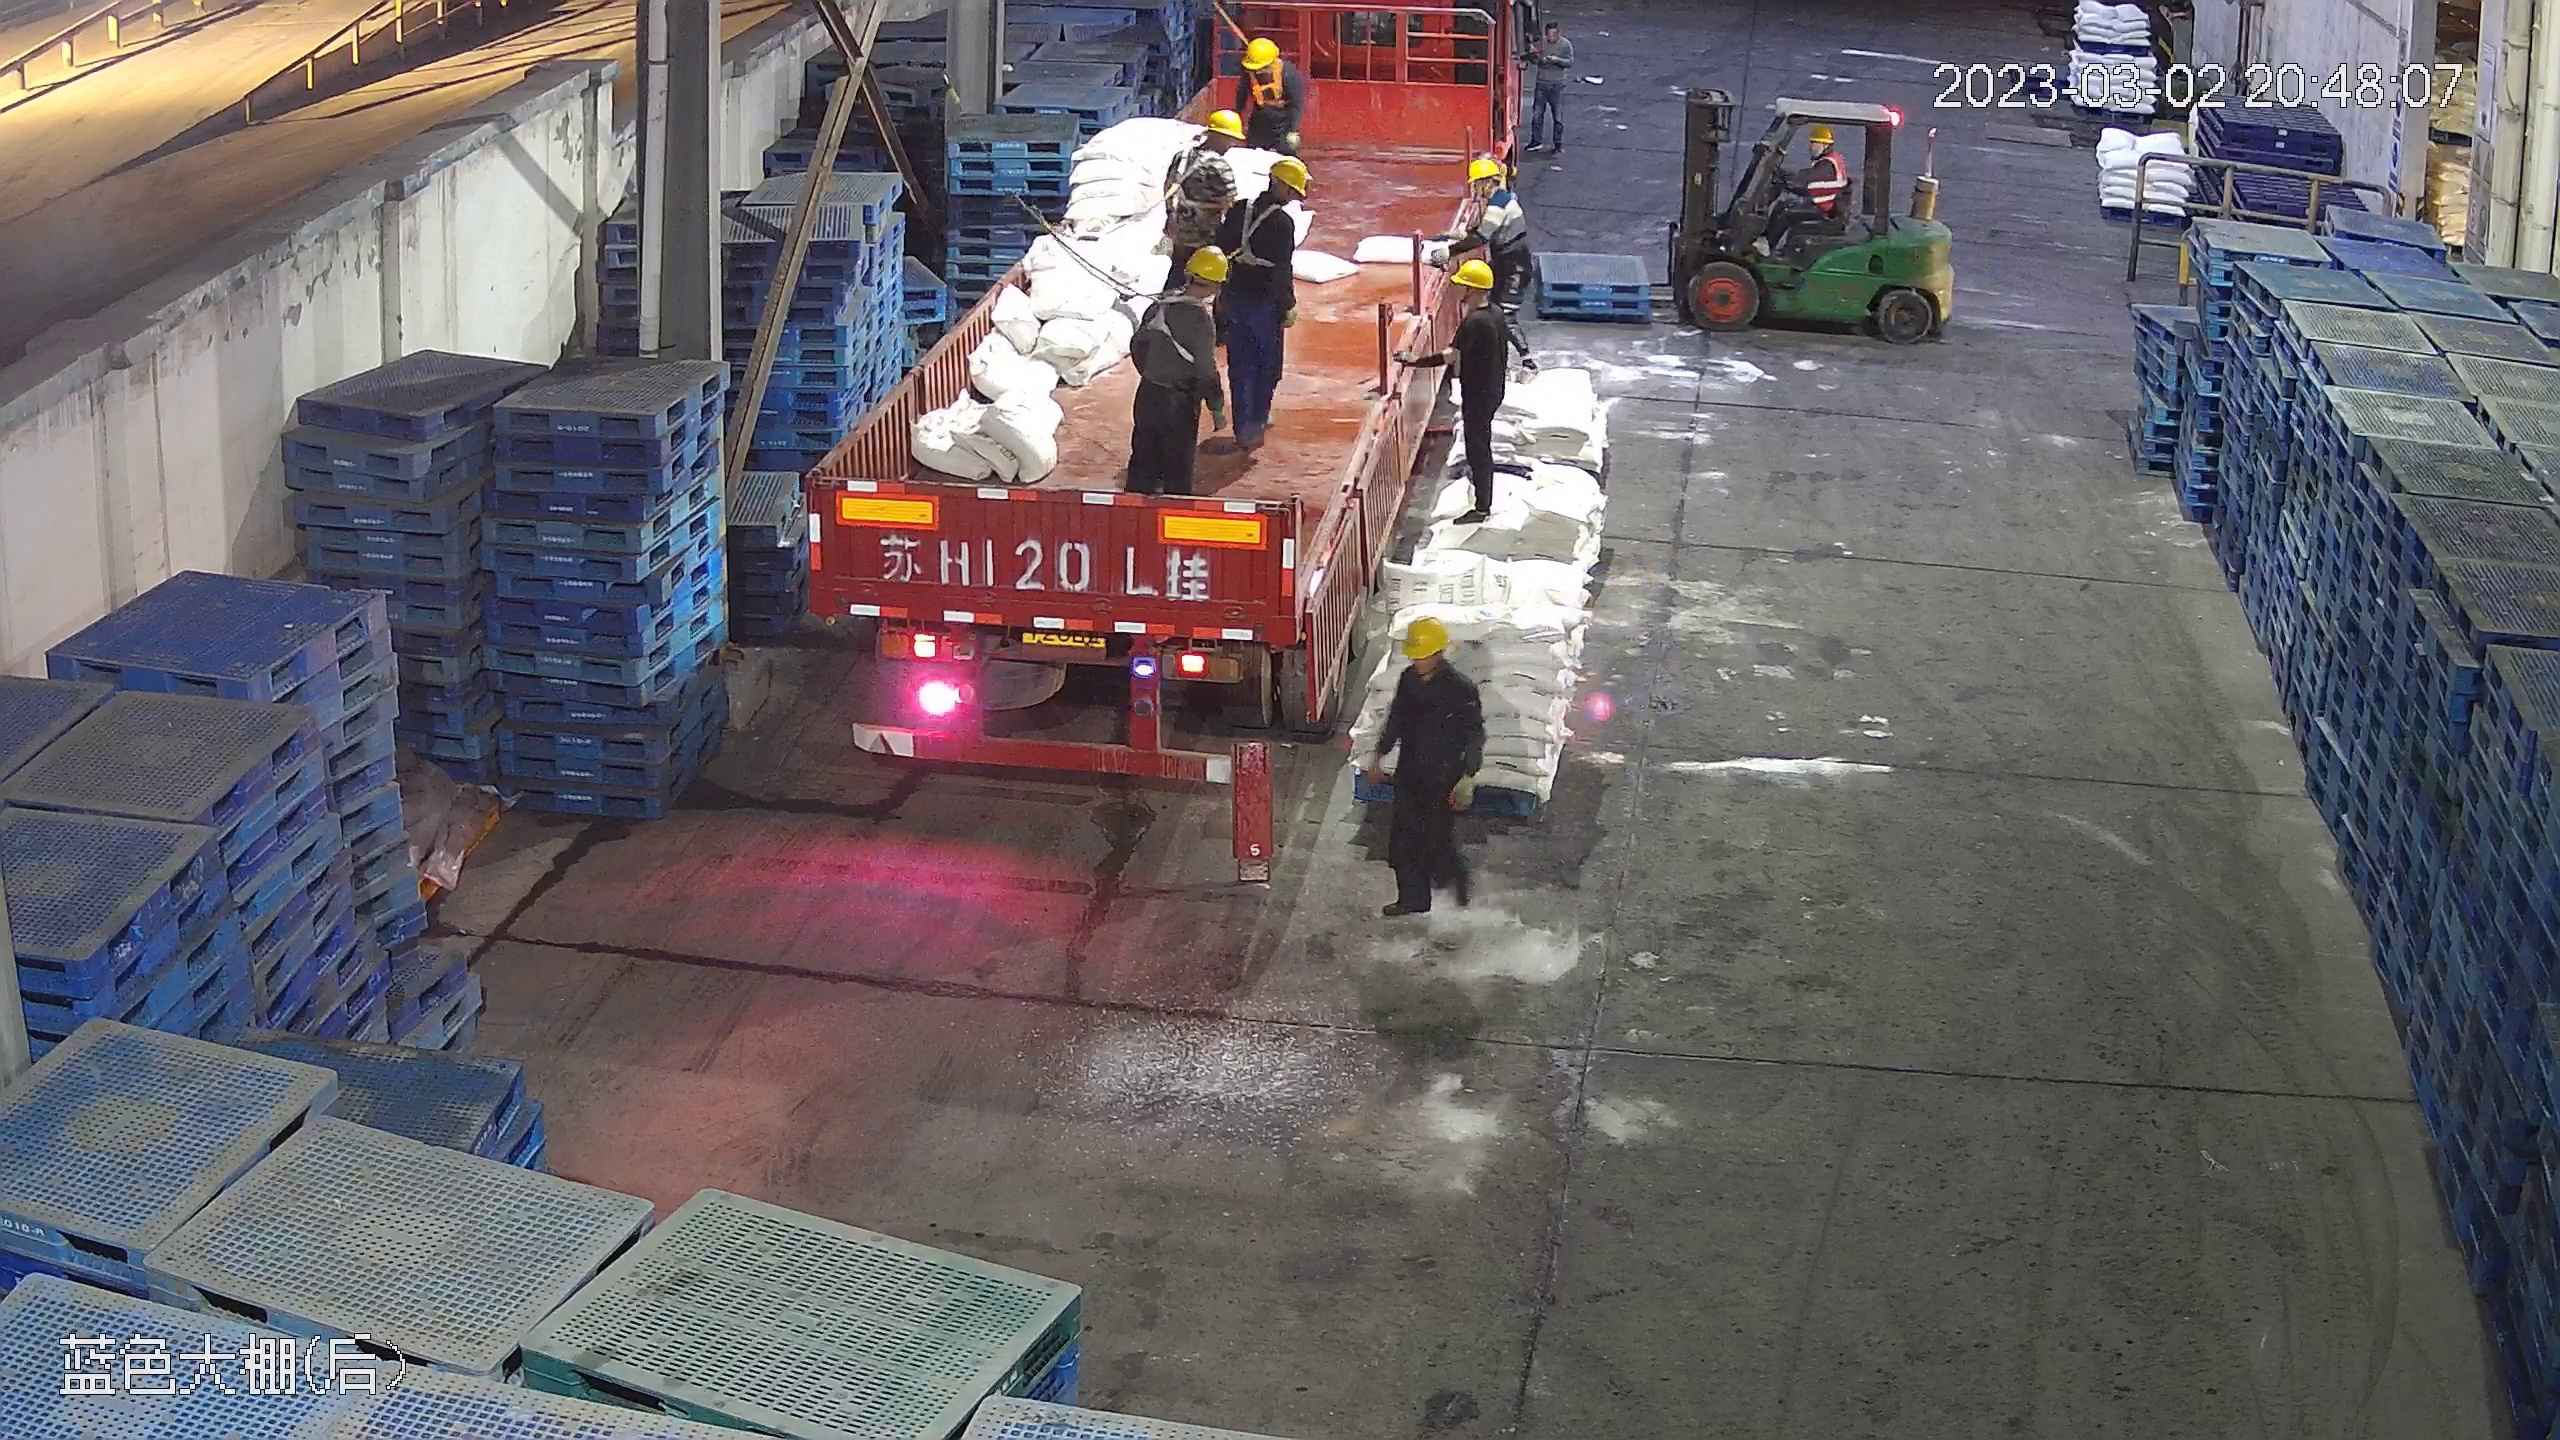belt: (1128, 282, 1204, 353), (1223, 190, 1292, 268), (1160, 148, 1222, 217), (1241, 66, 1294, 118)
head: (1385, 615, 1476, 718), (1137, 246, 1228, 338), (1228, 154, 1312, 248), (1161, 105, 1245, 191), (1445, 262, 1511, 351), (1455, 155, 1528, 230), (1223, 34, 1301, 104), (1796, 121, 1844, 176), (1531, 19, 1575, 60)
helmet: (1396, 614, 1448, 657), (1181, 244, 1231, 285), (1264, 154, 1310, 194), (1453, 255, 1499, 287), (1241, 35, 1278, 70), (1203, 106, 1242, 134), (1465, 155, 1503, 181), (1808, 120, 1838, 146)
people: (1359, 610, 1481, 924), (1120, 241, 1234, 501), (1218, 150, 1308, 451), (1443, 261, 1516, 523), (1464, 151, 1538, 369), (1160, 105, 1245, 285), (1756, 120, 1845, 248), (1239, 33, 1307, 155), (1529, 15, 1576, 154)
truck: (796, 1, 1503, 770)
